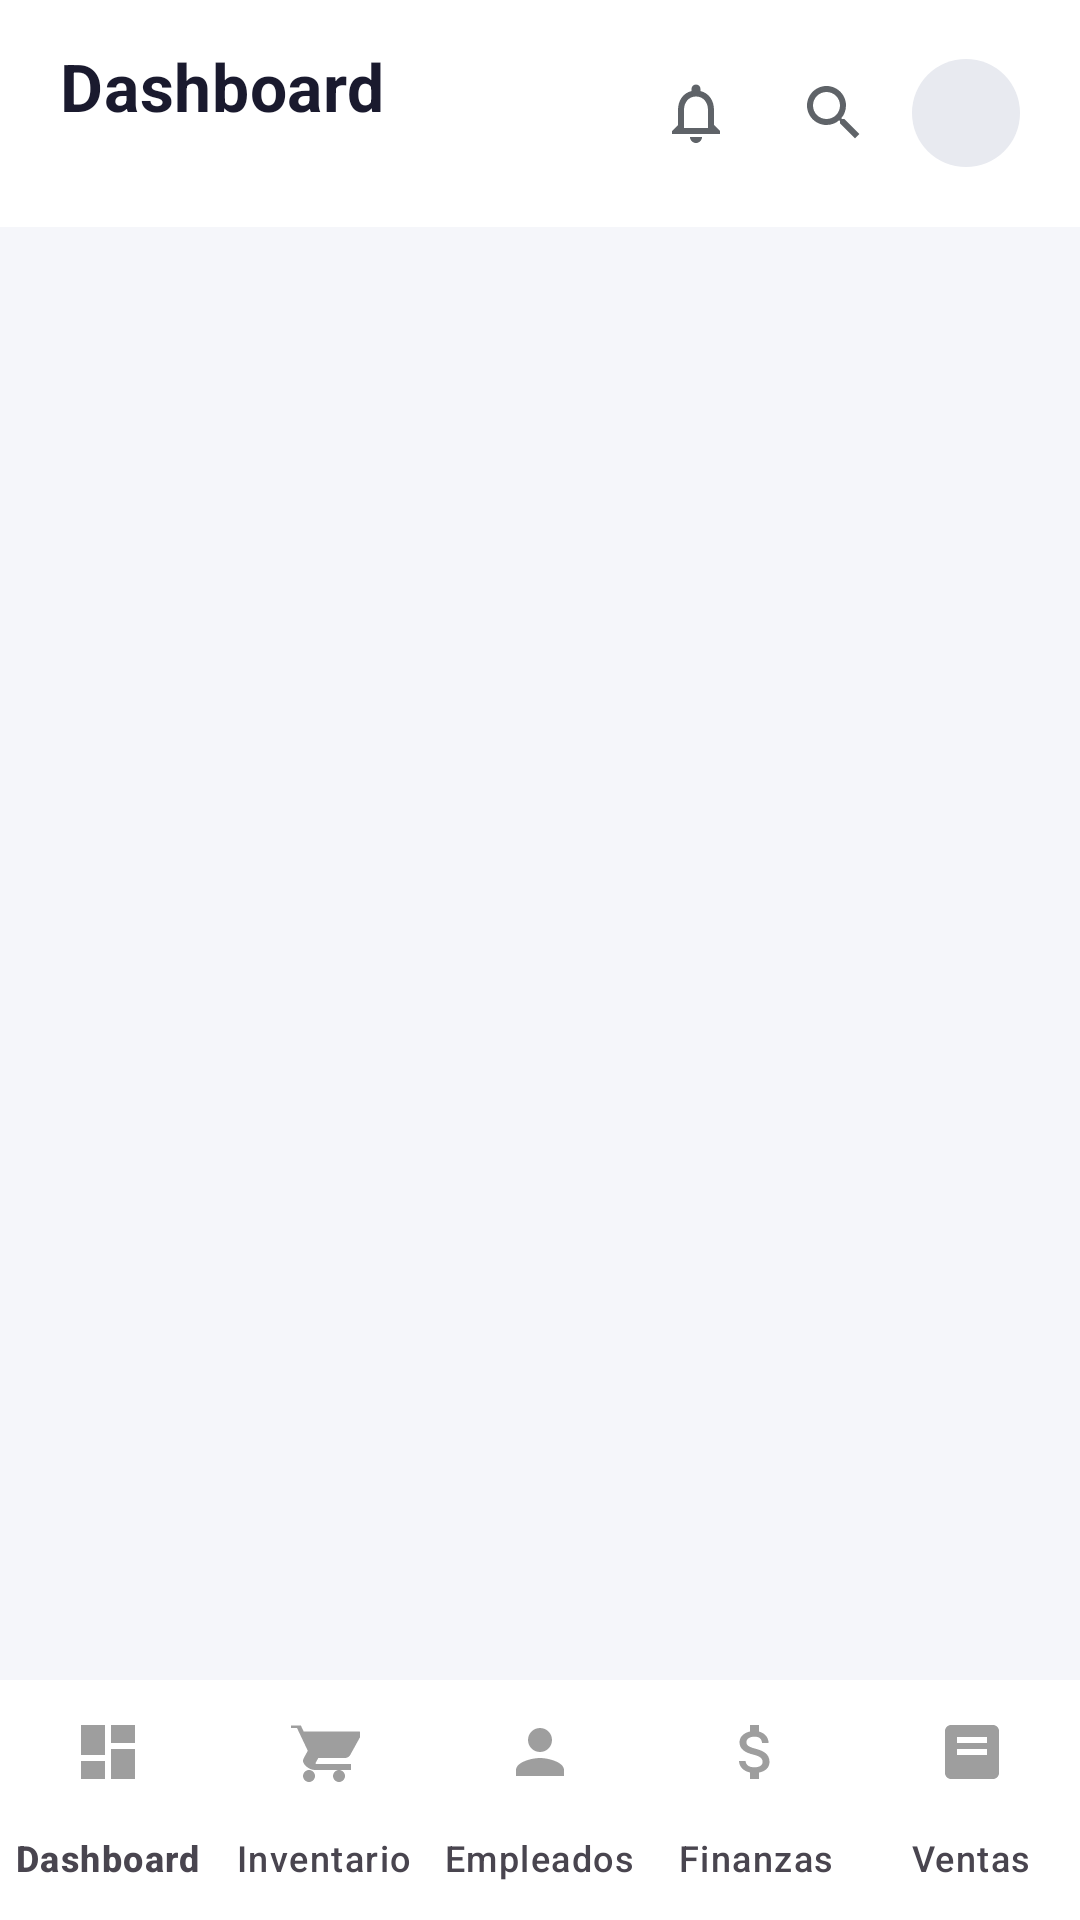

Named icons in this screenshot (1080*1920) and their centers, (x=x, y=y):
Buscar: (x=833, y=112)
Notificaciones: (x=696, y=113)
